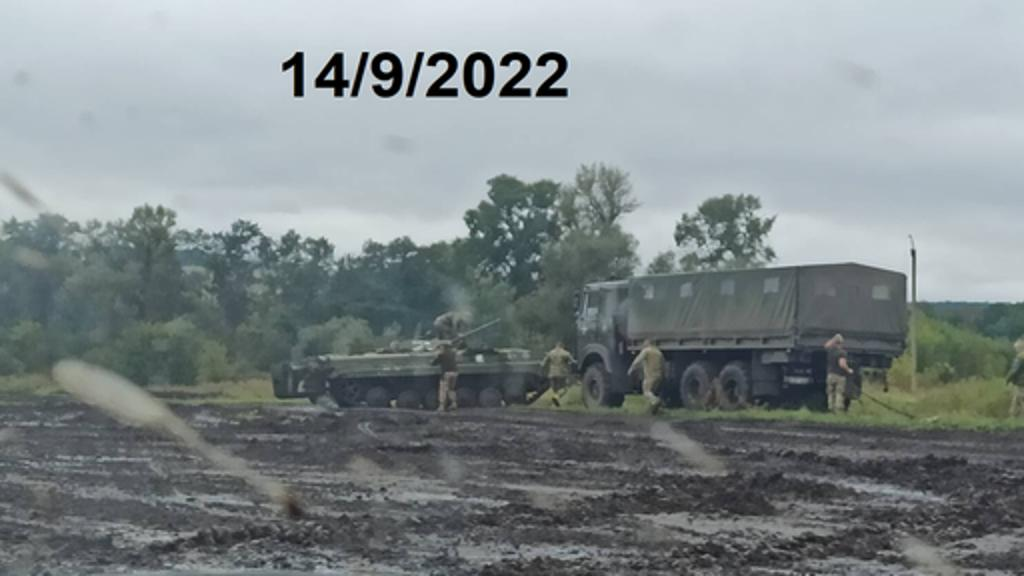APC-IFV: (288, 316, 550, 424)
TRUCK: (576, 268, 904, 414)
